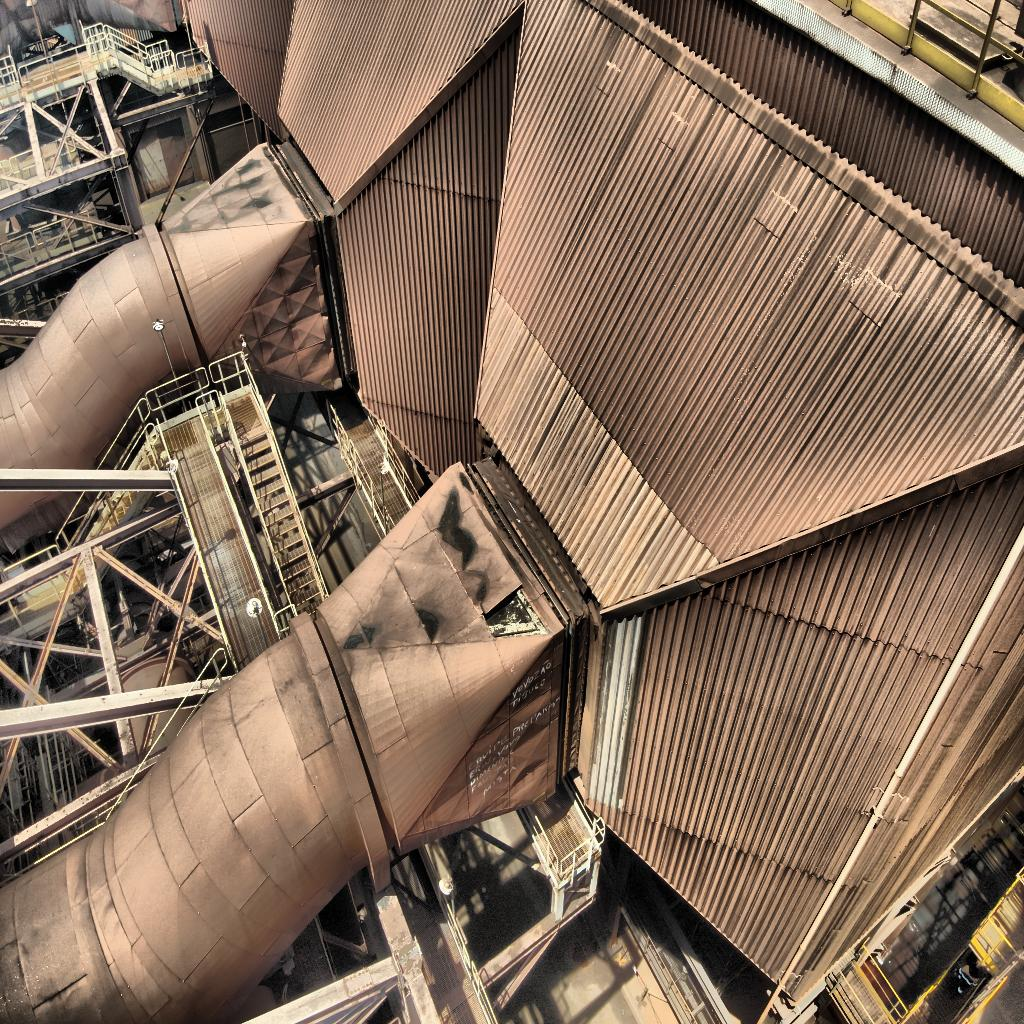Failures: (482, 579, 551, 643)
